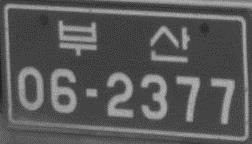-: (83, 84, 101, 101)
0: (15, 63, 46, 111)
2: (105, 69, 134, 120)
3: (139, 71, 168, 121)
6: (49, 65, 78, 115)
7: (208, 75, 238, 126), (174, 71, 201, 124)
부산_D: (57, 17, 192, 64)
